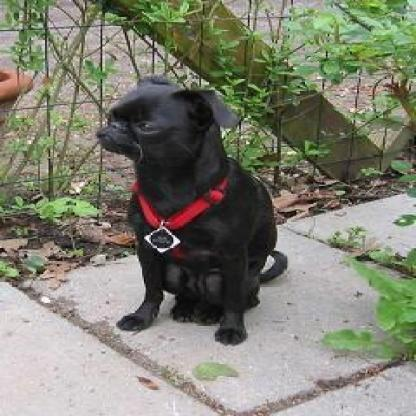Brabancon_griffon: (94, 72, 286, 343)
